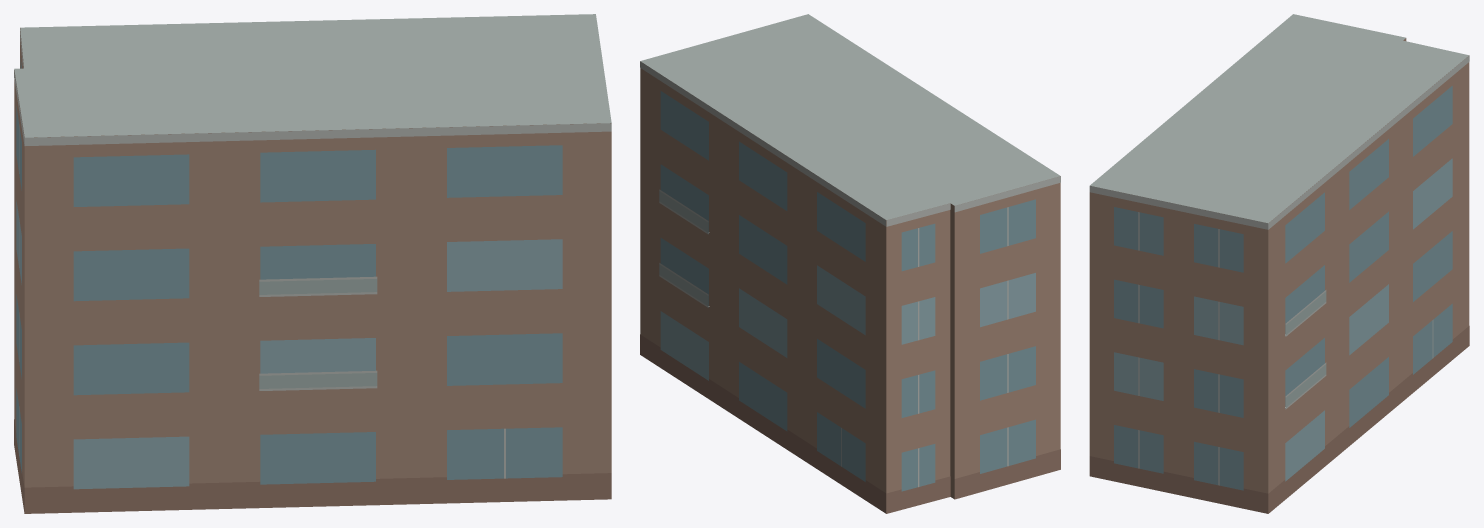
The model's file is survey-upis-32513541.glb.
3 renders of one model, left to right at view 1: azimuth 30°, elevation 25°; view 2: azimuth 150°, elevation 25°; view 3: azimuth 270°, elevation 25°, orthographic. The views are drawn at different scales.
Visible parts, largest first — view 1: survey-upis-32513541.tmp; view 2: survey-upis-32513541.tmp; view 3: survey-upis-32513541.tmp.
Part boxes in pixels (x1=…): survey-upis-32513541.tmp: x1=14, y1=14, x2=611, y2=513; survey-upis-32513541.tmp: x1=640, y1=14, x2=1060, y2=513; survey-upis-32513541.tmp: x1=1089, y1=14, x2=1469, y2=513.
Bounding box in the file's own units: 16.69 × 10.8 × 12.8.
